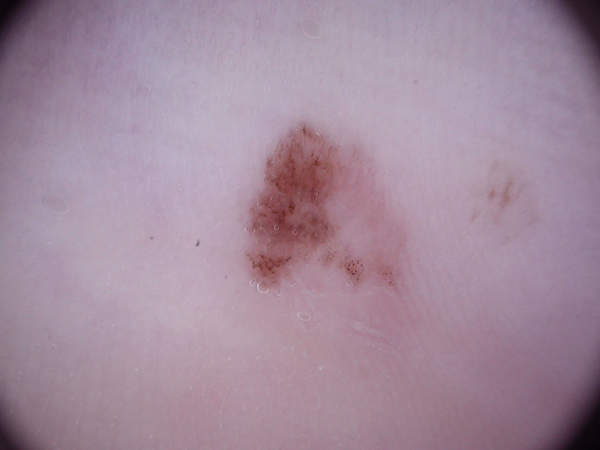Detected Lesion: (246, 119, 395, 304)
